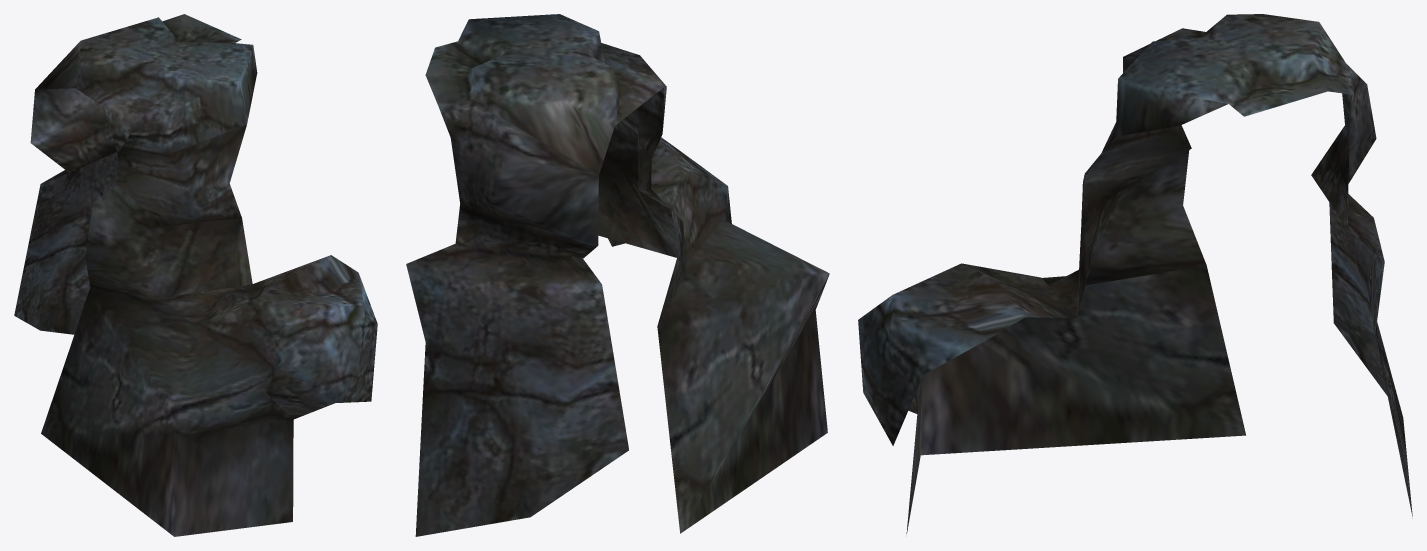
File: S_Rock_Yellow034_32.FBX
The picture shows the model from 3 angles, left to right: view 1: azimuth 30°, elevation 25°; view 2: azimuth 150°, elevation 25°; view 3: azimuth 270°, elevation 25°; orthographic projection. The views are drawn at different scales.
Visible parts, largest first — view 1: S_Rock_Yellow034_32; view 2: S_Rock_Yellow034_32; view 3: S_Rock_Yellow034_32.
Boxes of the visible parts, <box> form: S_Rock_Yellow034_32: <box>14,14,377,536</box>; S_Rock_Yellow034_32: <box>406,14,829,536</box>; S_Rock_Yellow034_32: <box>858,14,1412,533</box>.
Size of the model in its own units: 124 by 213 by 208.
